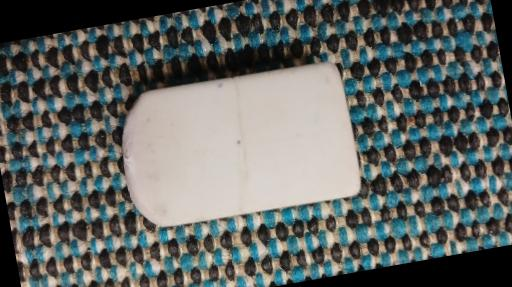Eraser: (113, 56, 366, 231)
